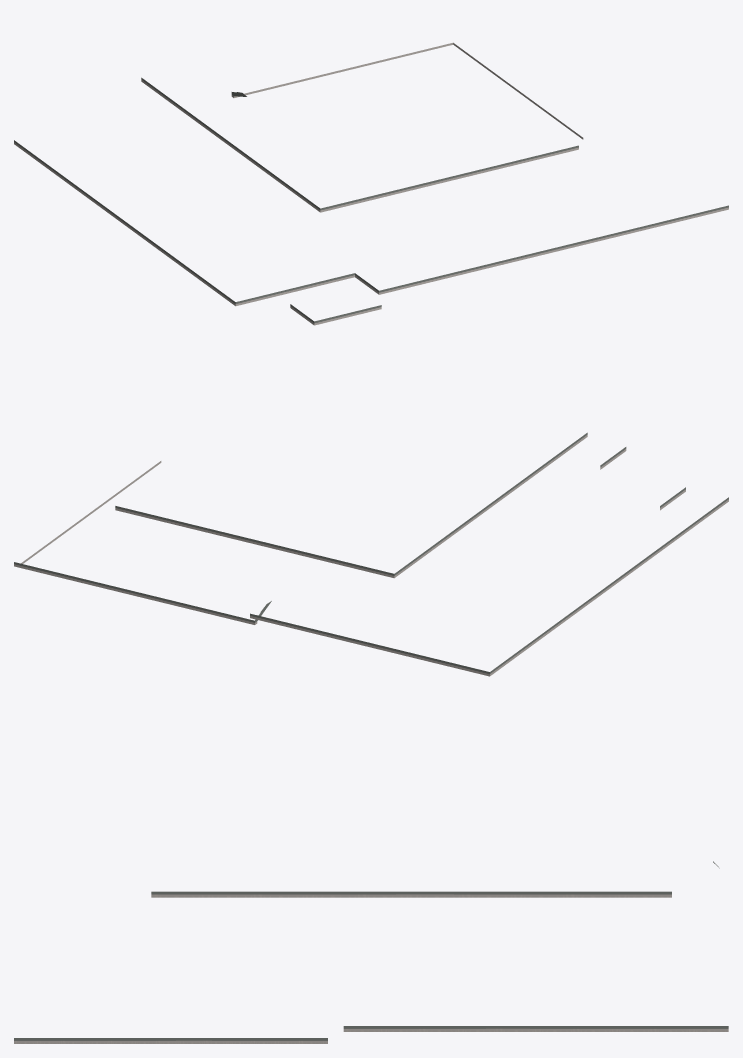
File: kd_stage_135b75_4_92.glb
3 views of the same model, one above another, from view 1: azimuth 30°, elevation 25°; view 2: azimuth 150°, elevation 25°; view 3: azimuth 270°, elevation 25° (orthographic). The views are drawn at different scales.
Visible parts, largest first — view 1: kd_stage_135b75_4_92; view 2: kd_stage_135b75_4_92; view 3: kd_stage_135b75_4_92.
Boxes of the visible parts, x1,y1,x2,y2 form: kd_stage_135b75_4_92: (14, 42, 728, 325); kd_stage_135b75_4_92: (14, 432, 728, 676); kd_stage_135b75_4_92: (14, 861, 728, 1043).
Bounding box in the file's own units: 11.8 × 1.78 × 10.71.
1 material, 1 textured.
